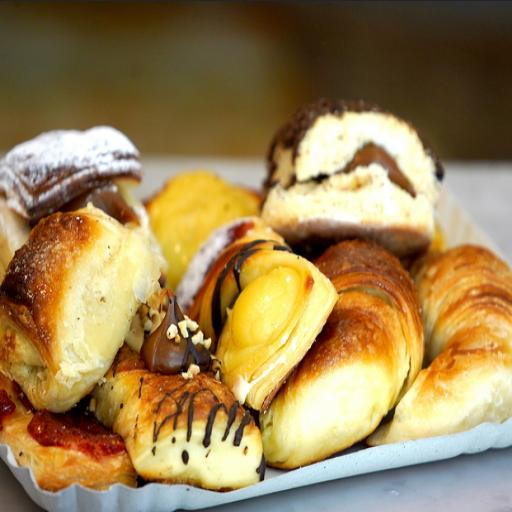bolleria: (259, 241, 424, 469), (93, 290, 265, 491), (0, 206, 161, 412), (262, 100, 444, 256), (369, 246, 511, 444), (189, 230, 338, 410)
